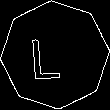L_N: (38, 29, 72, 81)
